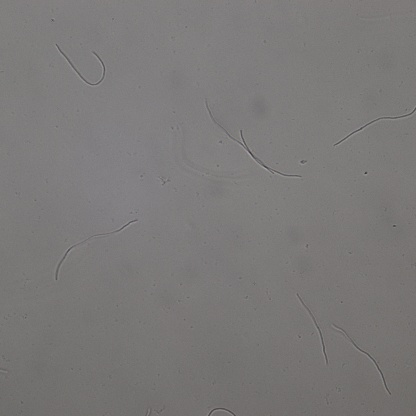Sensitive: (207, 101, 301, 178), (55, 217, 138, 279), (333, 326, 391, 394), (334, 106, 416, 146), (298, 294, 329, 364), (57, 45, 106, 86), (208, 407, 233, 416)
